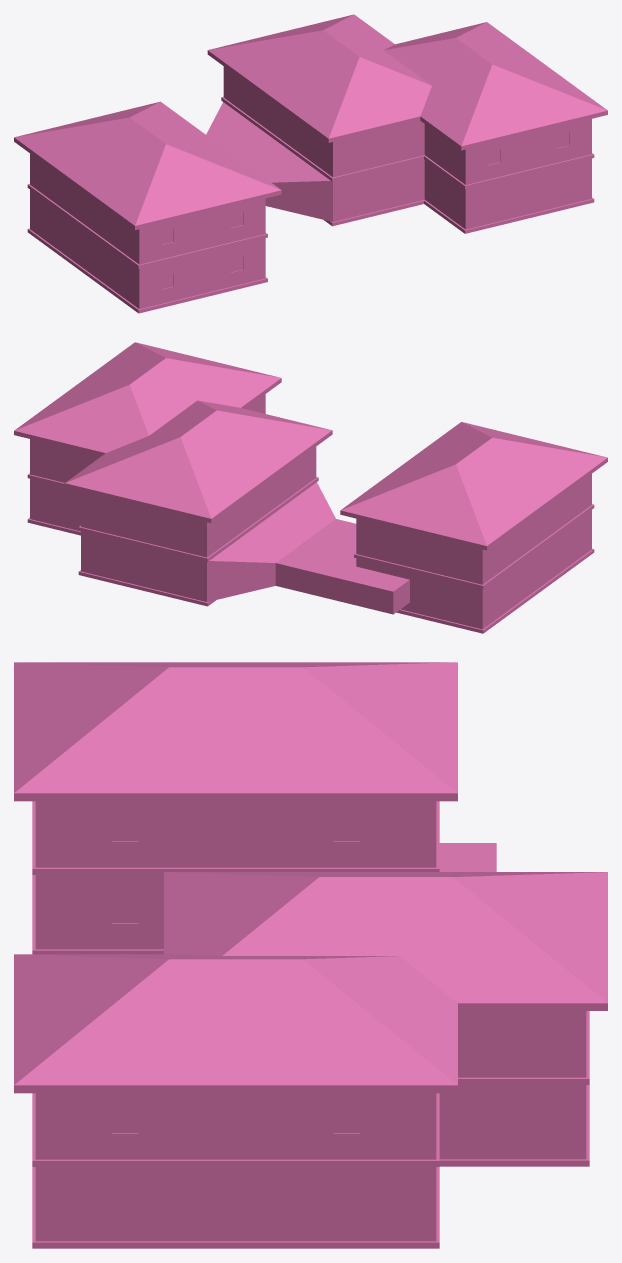
The model's file is home03.fbx.
3 views of the same model, one above another, from view 1: azimuth 30°, elevation 25°; view 2: azimuth 150°, elevation 25°; view 3: azimuth 270°, elevation 25° (orthographic). The views are drawn at different scales.
Visible parts, largest first — view 1: home03; view 2: home03; view 3: home03.
Boxes of the visible parts, x1,y1,x2,y2 form: home03: [14, 14, 607, 313]; home03: [14, 342, 607, 633]; home03: [14, 662, 607, 1248].
Bounding box in the file's own units: 3000 × 766 × 1780.
